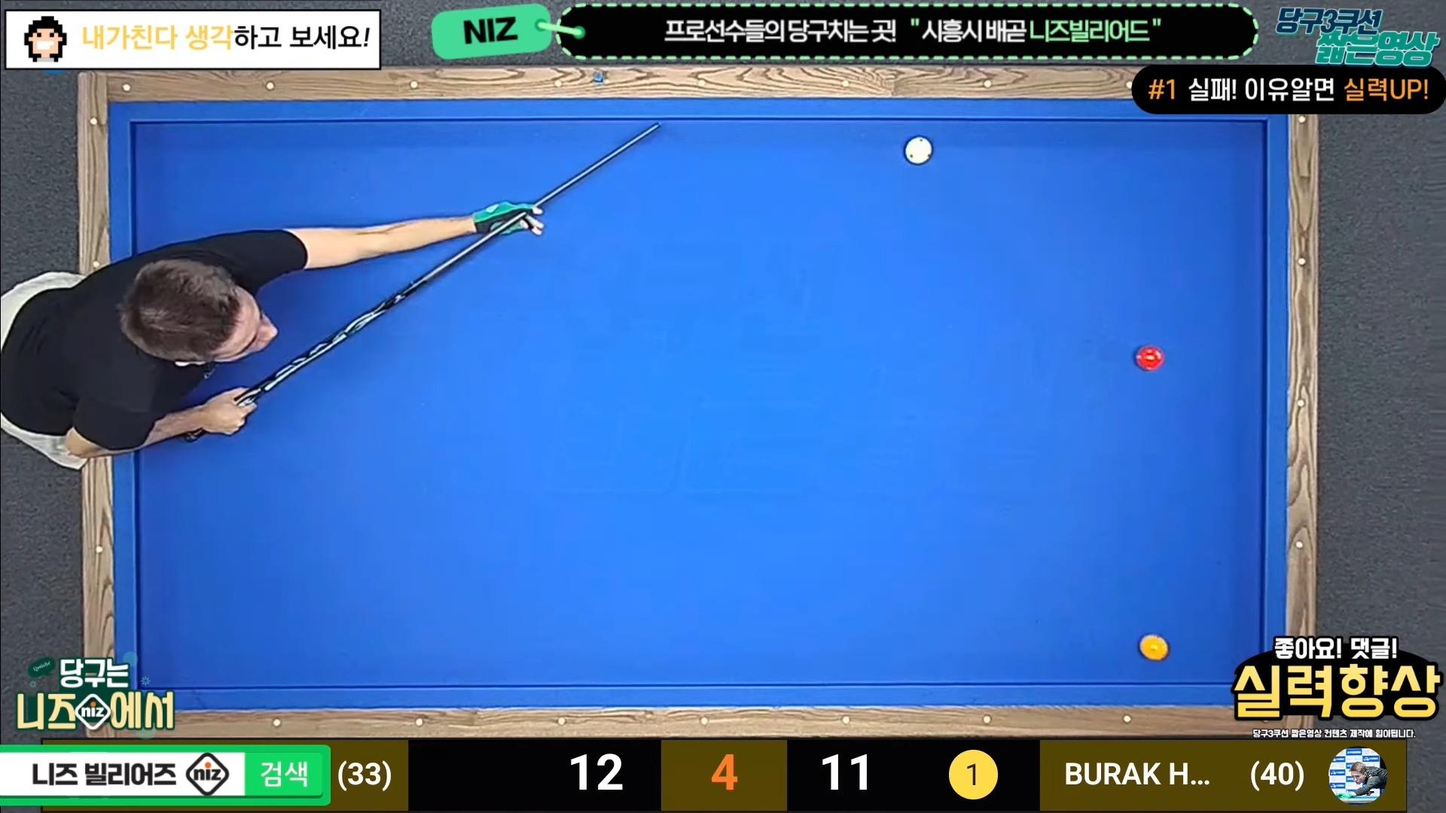-billiard-ball: (903, 135, 933, 165)
Red: (1132, 346, 1166, 373)
White: (946, 769, 1000, 804), (905, 136, 939, 165)
Yellow: (1136, 634, 1170, 661)
